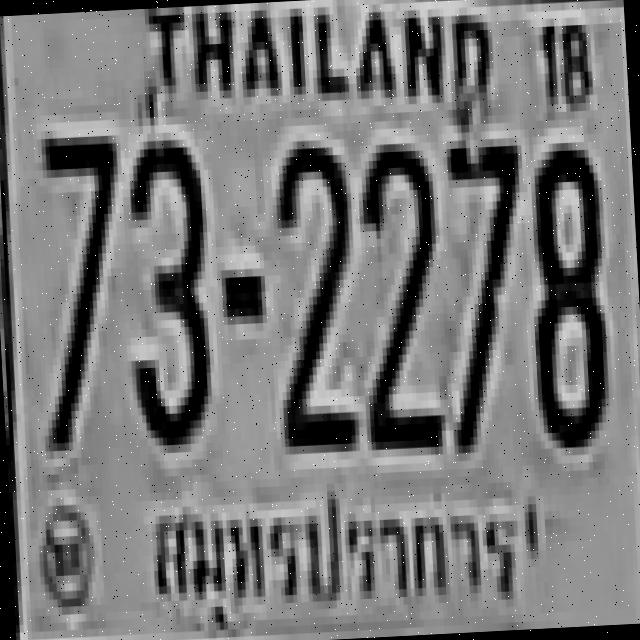2: (267, 132, 358, 447), (352, 131, 442, 446)
3: (120, 131, 214, 447)
7: (33, 128, 128, 444), (439, 138, 529, 446)
8: (521, 134, 607, 442)
SamutPrakan: (138, 468, 532, 634)
